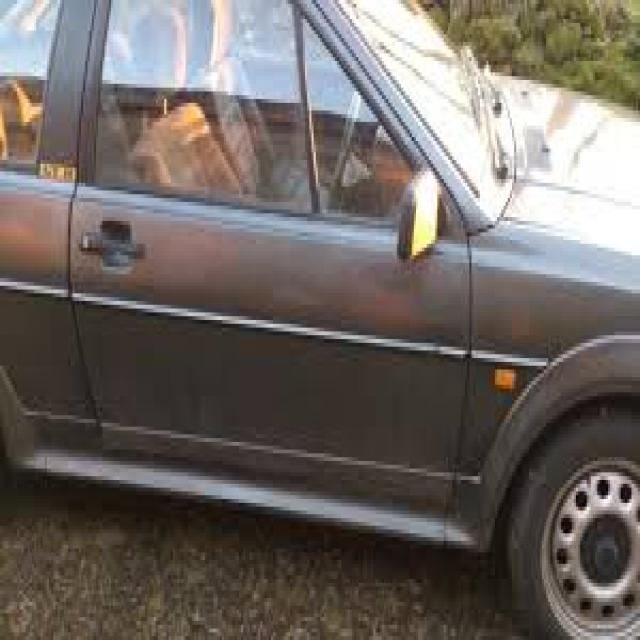minor: (66, 345, 138, 460)
